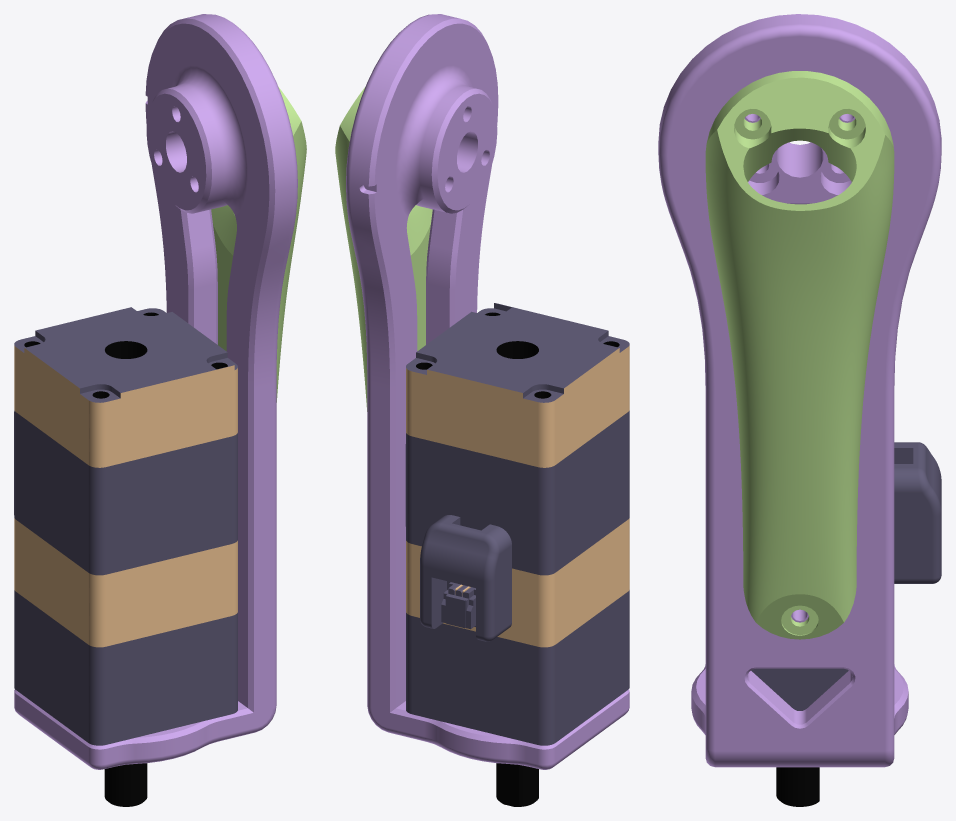
Rendered from Joint_5.dae.
The picture shows the model from 3 angles, left to right: view 1: azimuth 30°, elevation 25°; view 2: azimuth 150°, elevation 25°; view 3: azimuth 270°, elevation 25°; orthographic projection. The views are drawn at different scales.
Visible parts, largest first — view 1: Joint_5; view 2: Joint_5; view 3: Joint_5.
Part boxes in pixels (box(x1,y1,x2,y2)): Joint_5: box(14, 14, 306, 806); Joint_5: box(335, 14, 629, 806); Joint_5: box(658, 14, 941, 806).
Bounding box in the file's own units: 0.0316 × 0.03 × 0.097.
